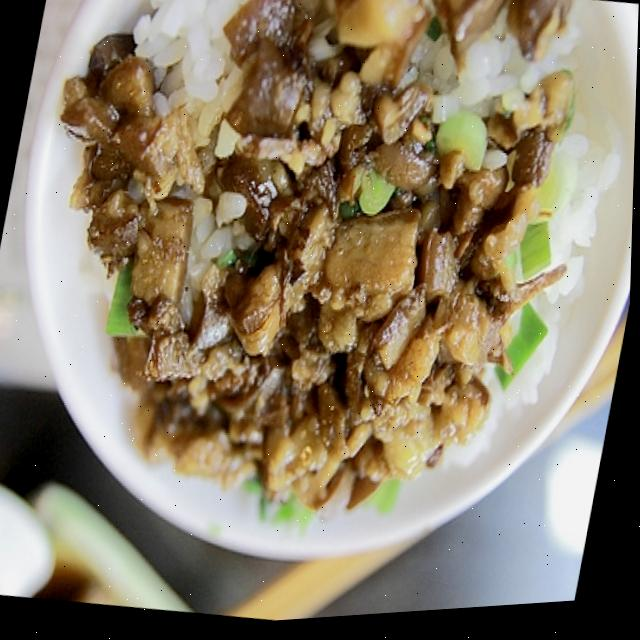猪肉菜式: (0, 0, 640, 594)
